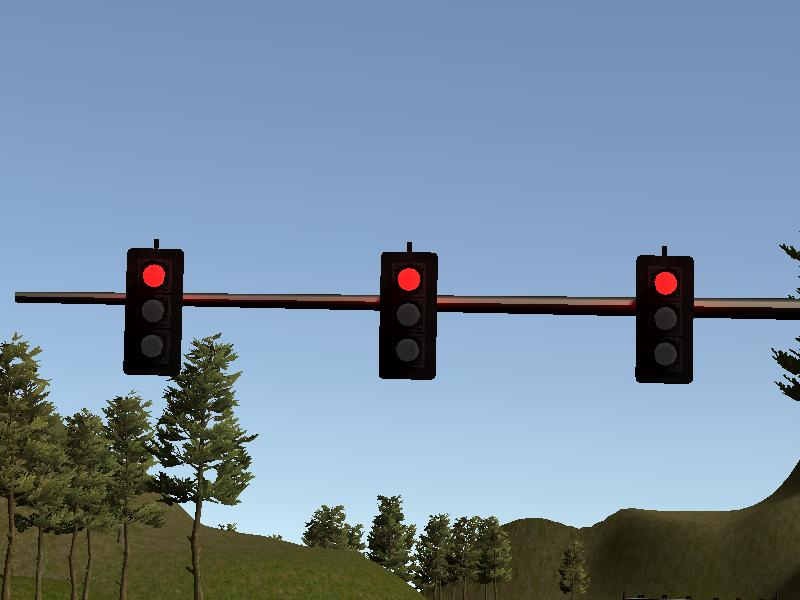Red: (637, 254, 693, 384), (381, 250, 435, 381), (128, 246, 182, 376)
